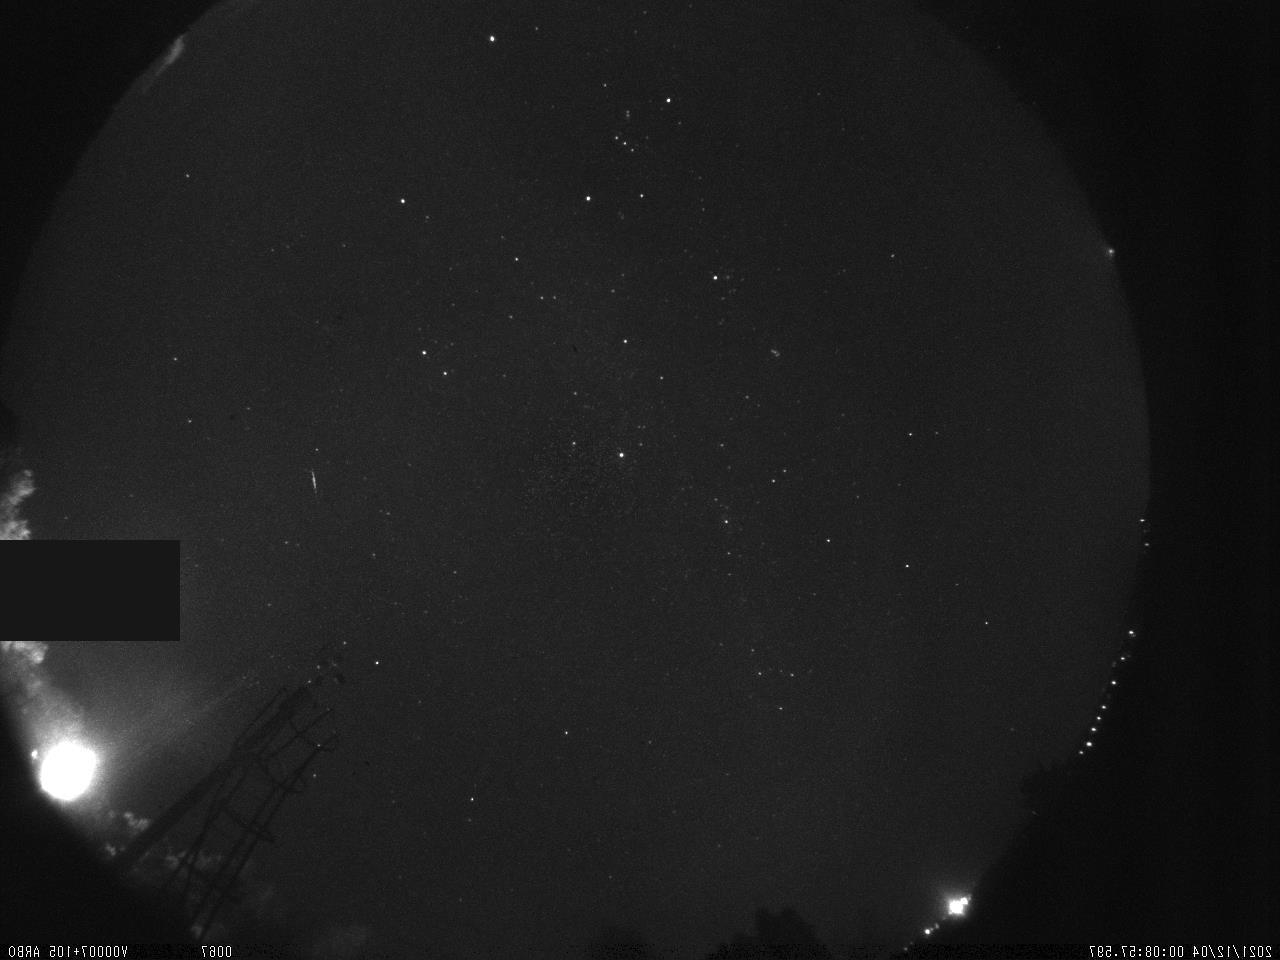meteor: (300, 465, 325, 498)
